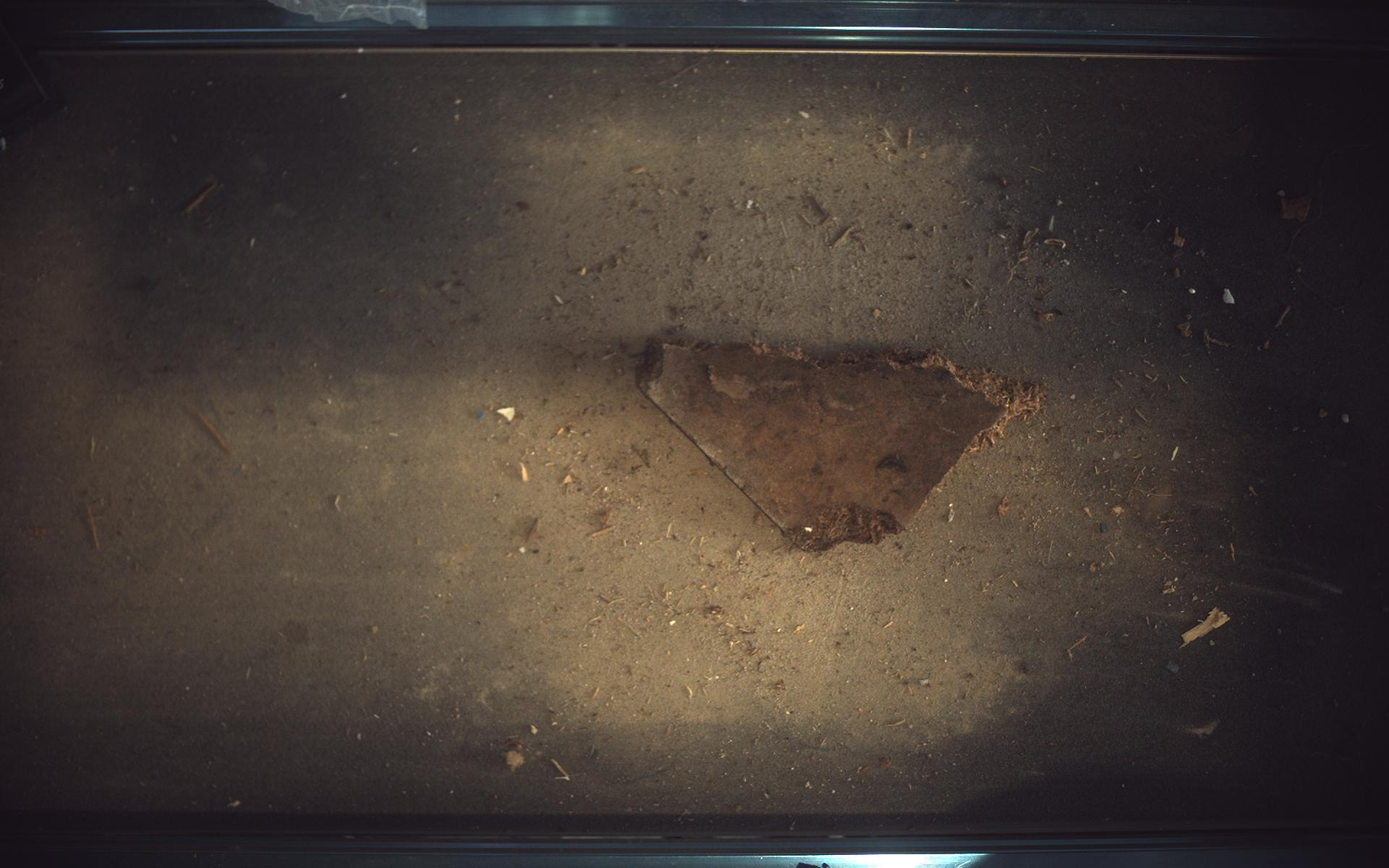wood: (640, 342, 1047, 552)
